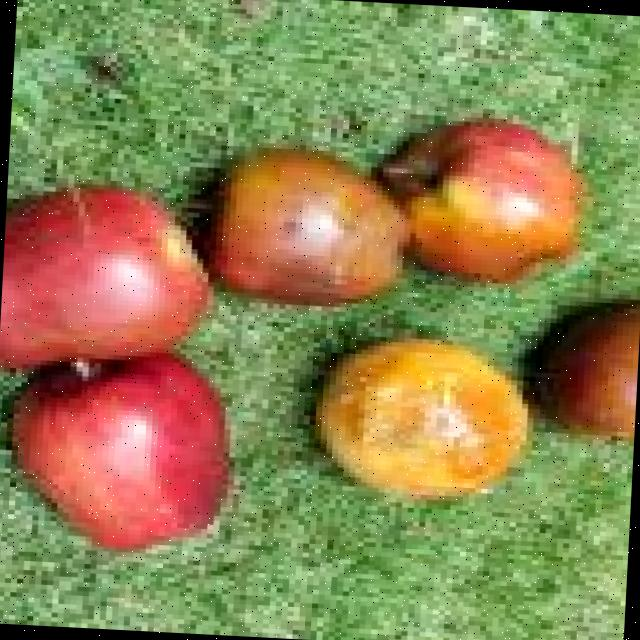Bad_Apple 0-1 day: (316, 338, 527, 498)
Good_Apple 10-21 days: (0, 190, 227, 549)
